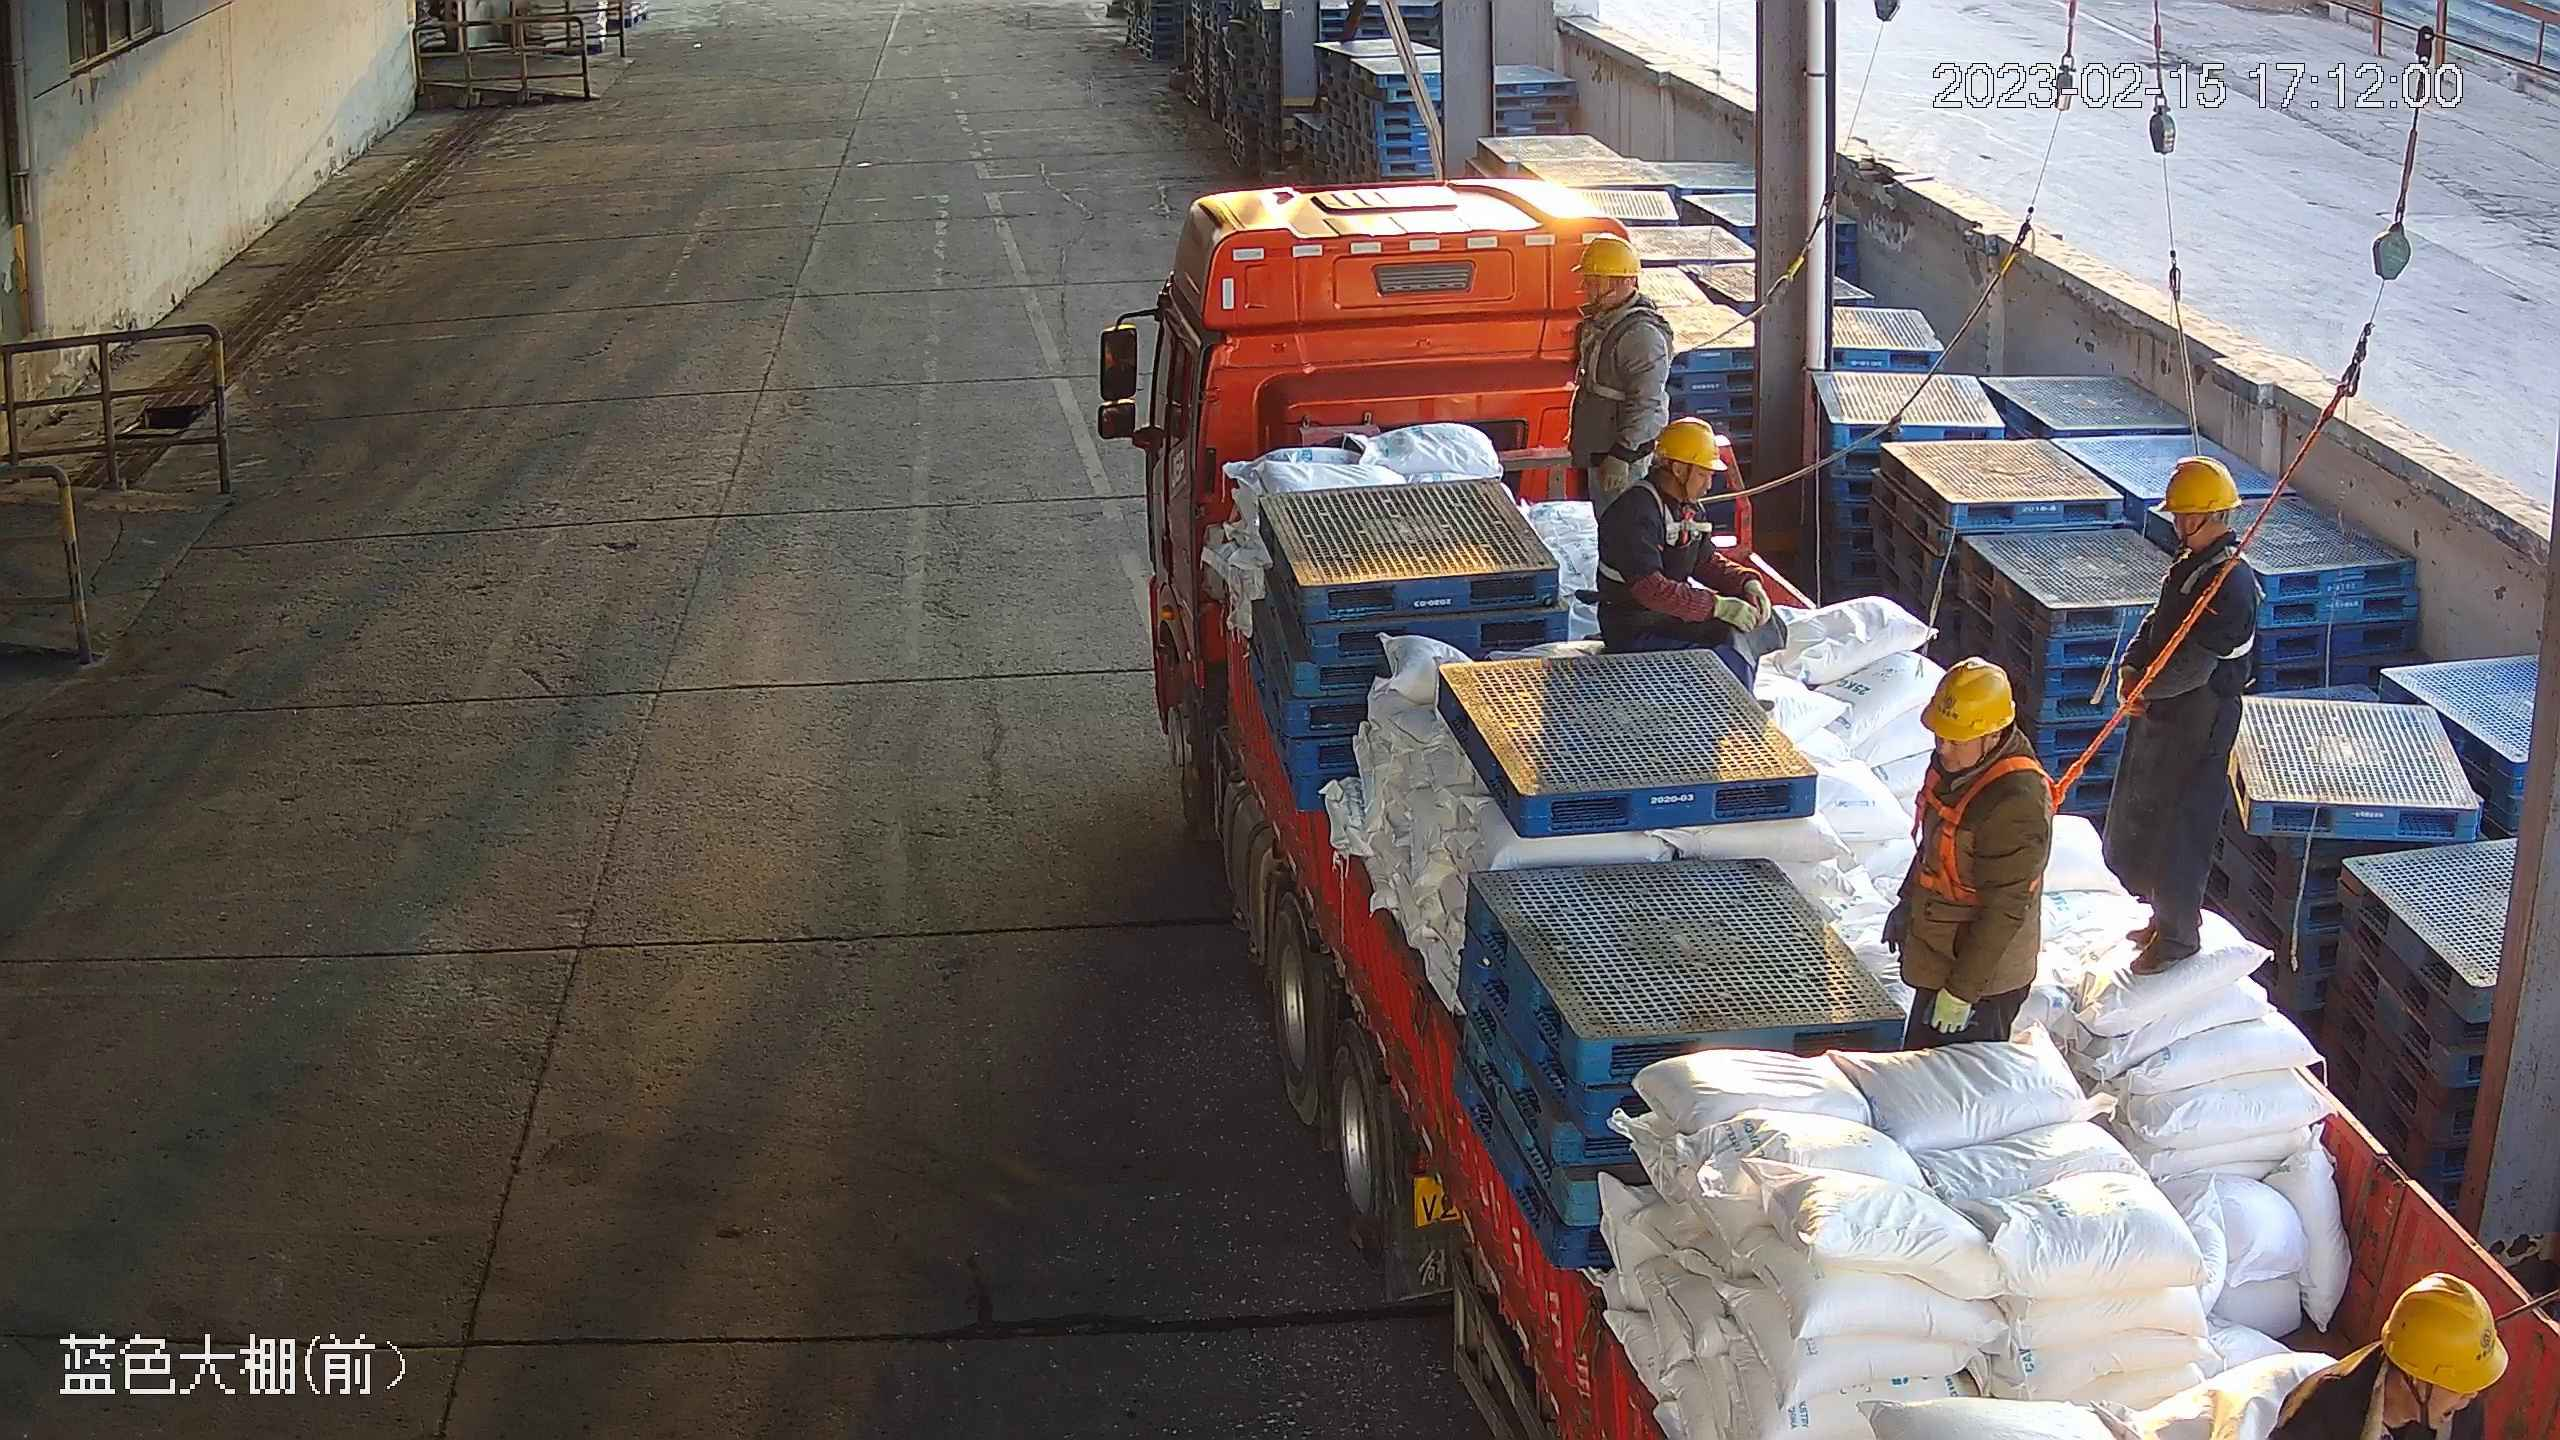belt: (1912, 755, 2086, 905), (1597, 479, 1712, 584), (2166, 548, 2266, 661), (1574, 307, 1666, 403)
head: (1921, 655, 2054, 838), (2146, 457, 2266, 613), (1599, 417, 1728, 541), (1571, 232, 1674, 368)
helmet: (2381, 1270, 2510, 1395), (1920, 656, 2016, 742), (2156, 455, 2243, 513), (1655, 416, 1729, 473), (1571, 232, 1644, 278)
people: (2101, 455, 2266, 976), (1878, 655, 2053, 1053), (1595, 416, 1788, 712), (1568, 231, 1674, 529)
truck: (1097, 171, 2560, 1440)
